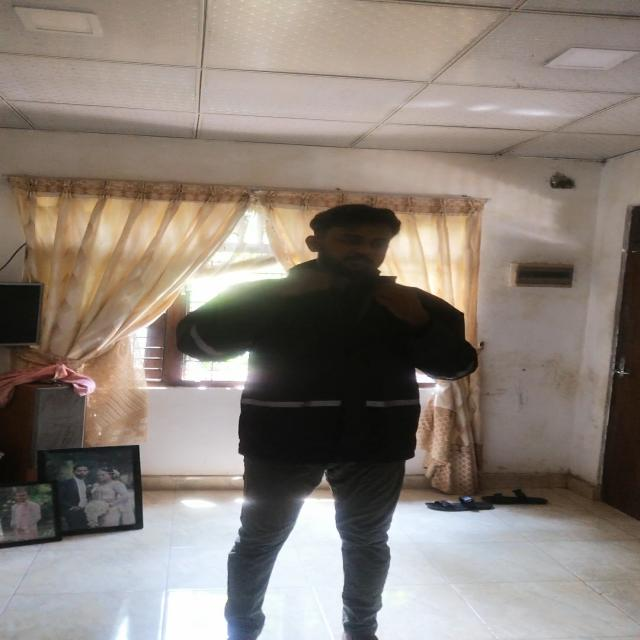Jacket_Wearer: (182, 260, 488, 473)
Person: (176, 195, 483, 640)
